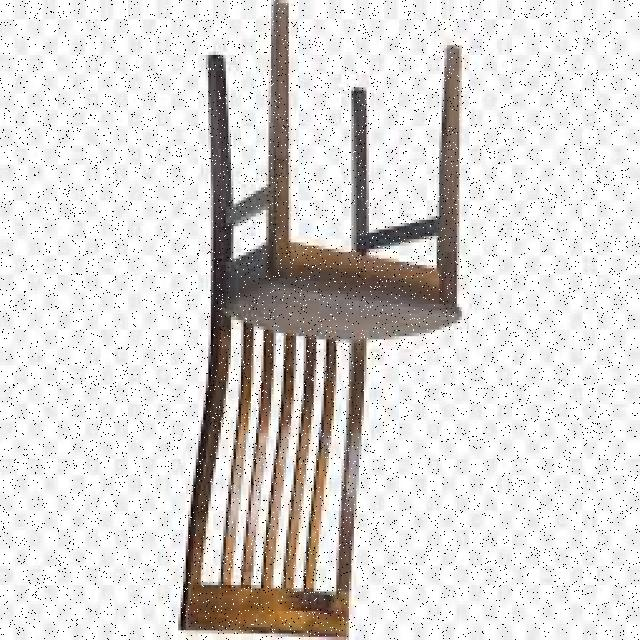bottle: (177, 0, 465, 640)
